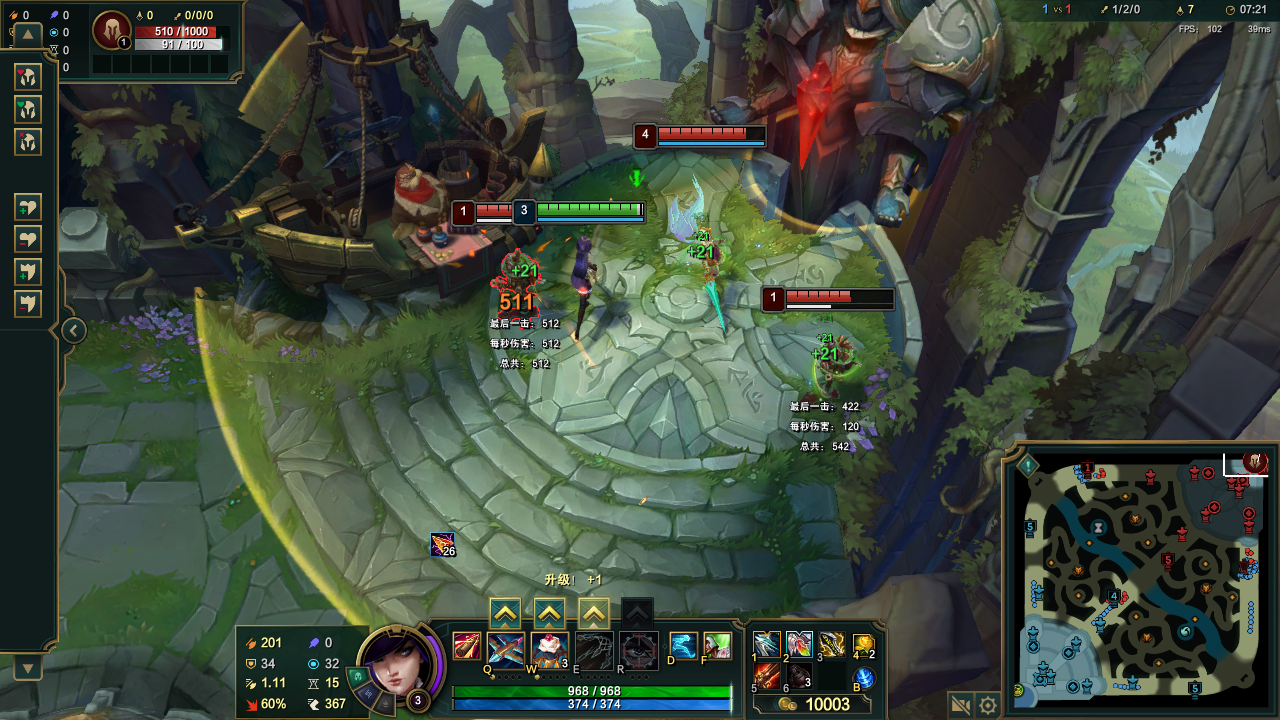DFYX: (656, 120, 772, 140), (787, 285, 889, 305), (480, 205, 513, 218)
